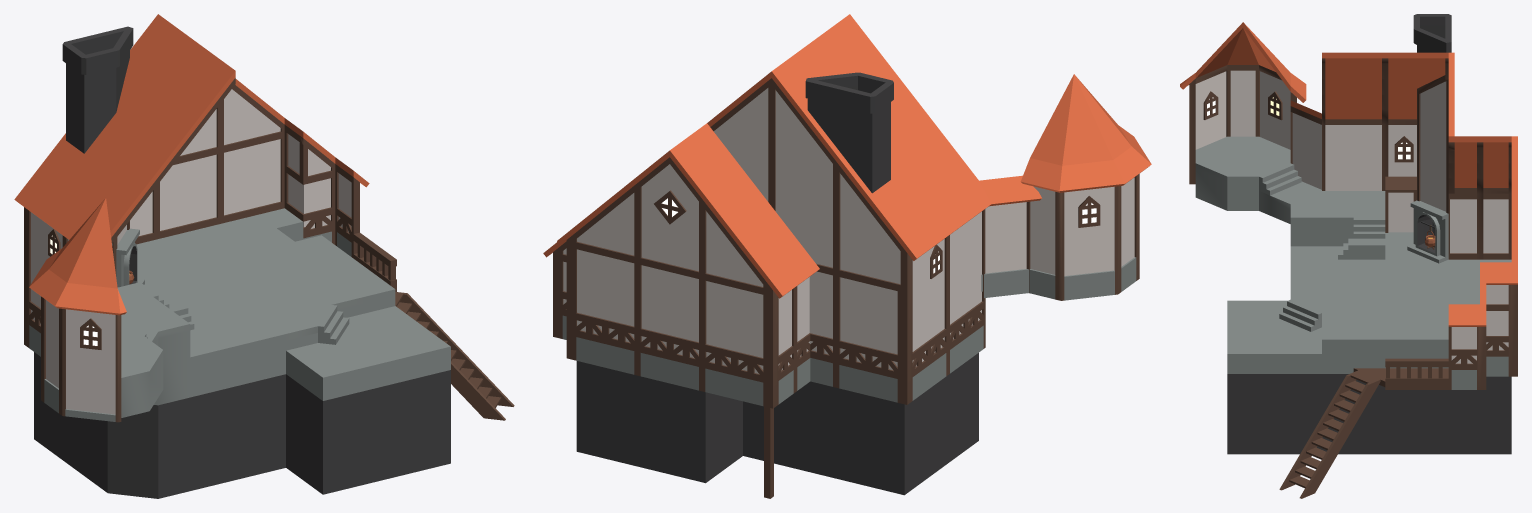
The picture shows the model from 3 angles, left to right: view 1: azimuth 30°, elevation 25°; view 2: azimuth 150°, elevation 25°; view 3: azimuth 270°, elevation 25°; orthographic projection. The views are drawn at different scales.
Visible parts, largest first — view 1: Base_1x1x0.8_proxy.005_1, Base_1x1x0.8_proxy.005_0, Base_1x1x0.8_proxy.005_2, Base_1x1x0.8_proxy.005_4, Base_1x1x0.8_proxy.005_3; view 2: Base_1x1x0.8_proxy.005_4, Base_1x1x0.8_proxy.005_0, Base_1x1x0.8_proxy.005_2, Base_1x1x0.8_proxy.005_3, Base_1x1x0.8_proxy.005_1; view 3: Base_1x1x0.8_proxy.005_1, Base_1x1x0.8_proxy.005_4, Base_1x1x0.8_proxy.005_0, Base_1x1x0.8_proxy.005_3, Base_1x1x0.8_proxy.005_2.
Boxes of the visible parts, x1=… form: Base_1x1x0.8_proxy.005_1: x1=29, y1=208, x2=450, y2=421; Base_1x1x0.8_proxy.005_0: x1=34, y1=26, x2=450, y2=498; Base_1x1x0.8_proxy.005_2: x1=14, y1=14, x2=369, y2=315; Base_1x1x0.8_proxy.005_4: x1=31, y1=89, x2=351, y2=414; Base_1x1x0.8_proxy.005_3: x1=24, y1=78, x2=514, y2=422; Base_1x1x0.8_proxy.005_4: x1=563, y1=88, x2=1134, y2=373; Base_1x1x0.8_proxy.005_0: x1=576, y1=72, x2=978, y2=495; Base_1x1x0.8_proxy.005_2: x1=543, y1=14, x2=1151, y2=298; Base_1x1x0.8_proxy.005_3: x1=553, y1=78, x2=1139, y2=498; Base_1x1x0.8_proxy.005_1: x1=562, y1=257, x2=1136, y2=405; Base_1x1x0.8_proxy.005_1: x1=1195, y1=136, x2=1511, y2=389; Base_1x1x0.8_proxy.005_4: x1=1195, y1=70, x2=1508, y2=363; Base_1x1x0.8_proxy.005_0: x1=1227, y1=14, x2=1511, y2=454; Base_1x1x0.8_proxy.005_3: x1=1189, y1=58, x2=1517, y2=498; Base_1x1x0.8_proxy.005_2: x1=1180, y1=22, x2=1517, y2=326.
Size of the model in its own units: 15.86 by 11.7 by 10.7.
